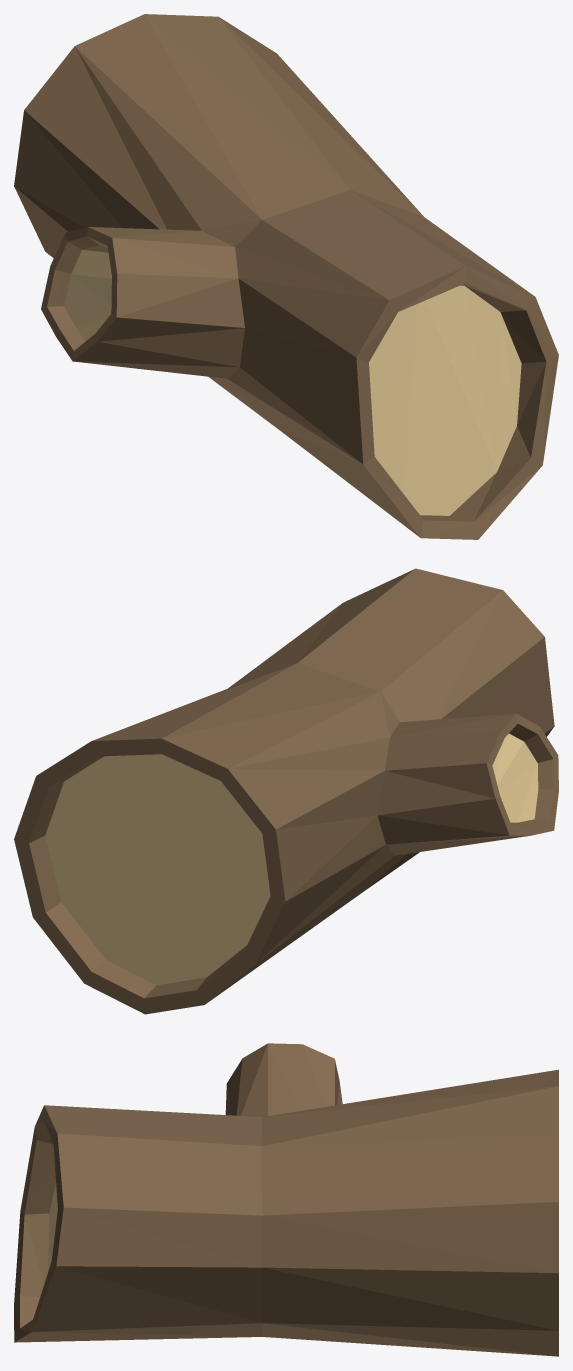
The model's file is SM_Tree_6.fbx.
3 views of the same model, one above another, from view 1: azimuth 30°, elevation 25°; view 2: azimuth 150°, elevation 25°; view 3: azimuth 270°, elevation 25° (orthographic). The views are drawn at different scales.
Visible parts, largest first — view 1: SM_Tree_6_LOD0; view 2: SM_Tree_6_LOD0; view 3: SM_Tree_6_LOD0.
Part boxes in pixels (x1=…): SM_Tree_6_LOD0: x1=14, y1=14, x2=558, y2=539; SM_Tree_6_LOD0: x1=14, y1=568, x2=558, y2=1014; SM_Tree_6_LOD0: x1=14, y1=1043, x2=558, y2=1356.
Size of the model in its own units: 105 by 146 by 74.18.
1 material, 1 textured.
